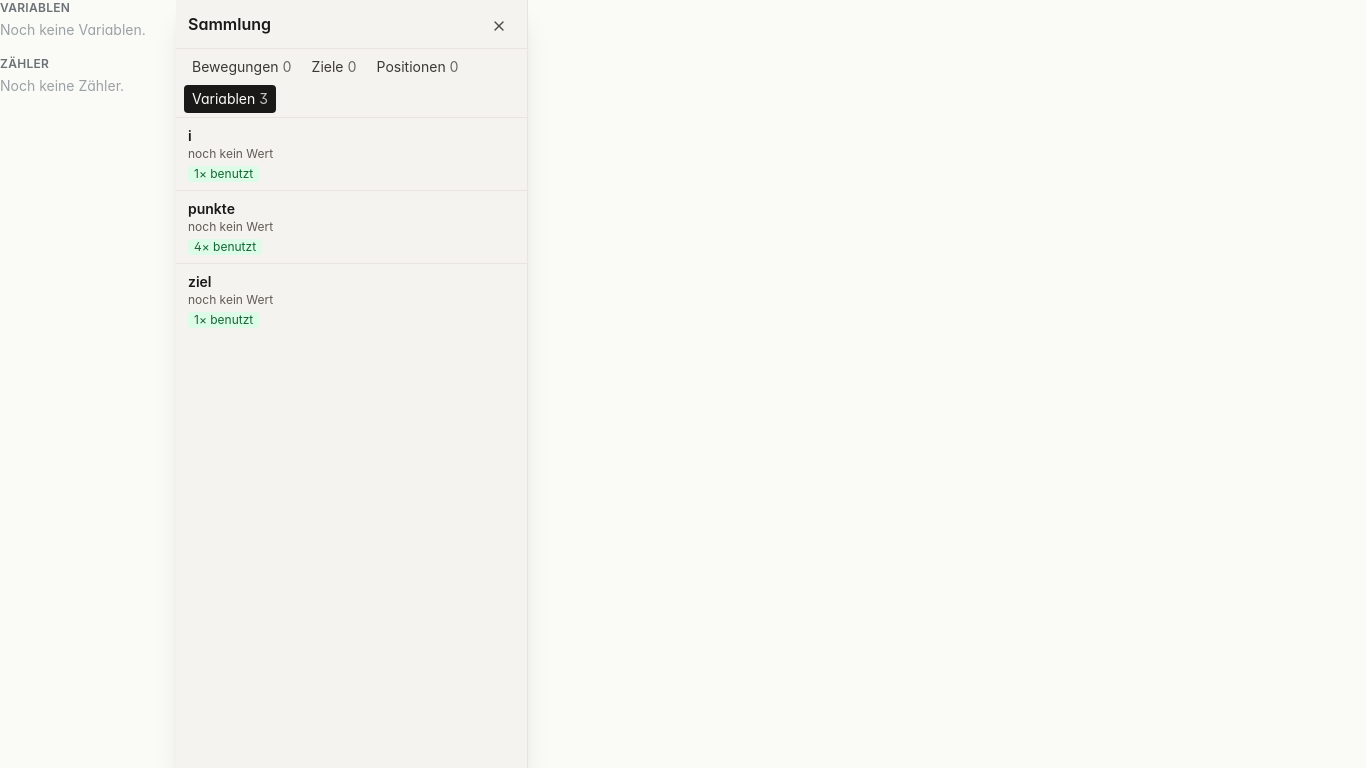
Test case: a Python program’s zeige(…) reaches both Variablen views › before any run the drawer lists the program’s own names, no value yet
Expected: the tab "Variablen 3" is shown, [184,85,276,113]
Click the button "punkte noch kein Wert 4× benutzt": click(211, 208) [176,191,527,263]
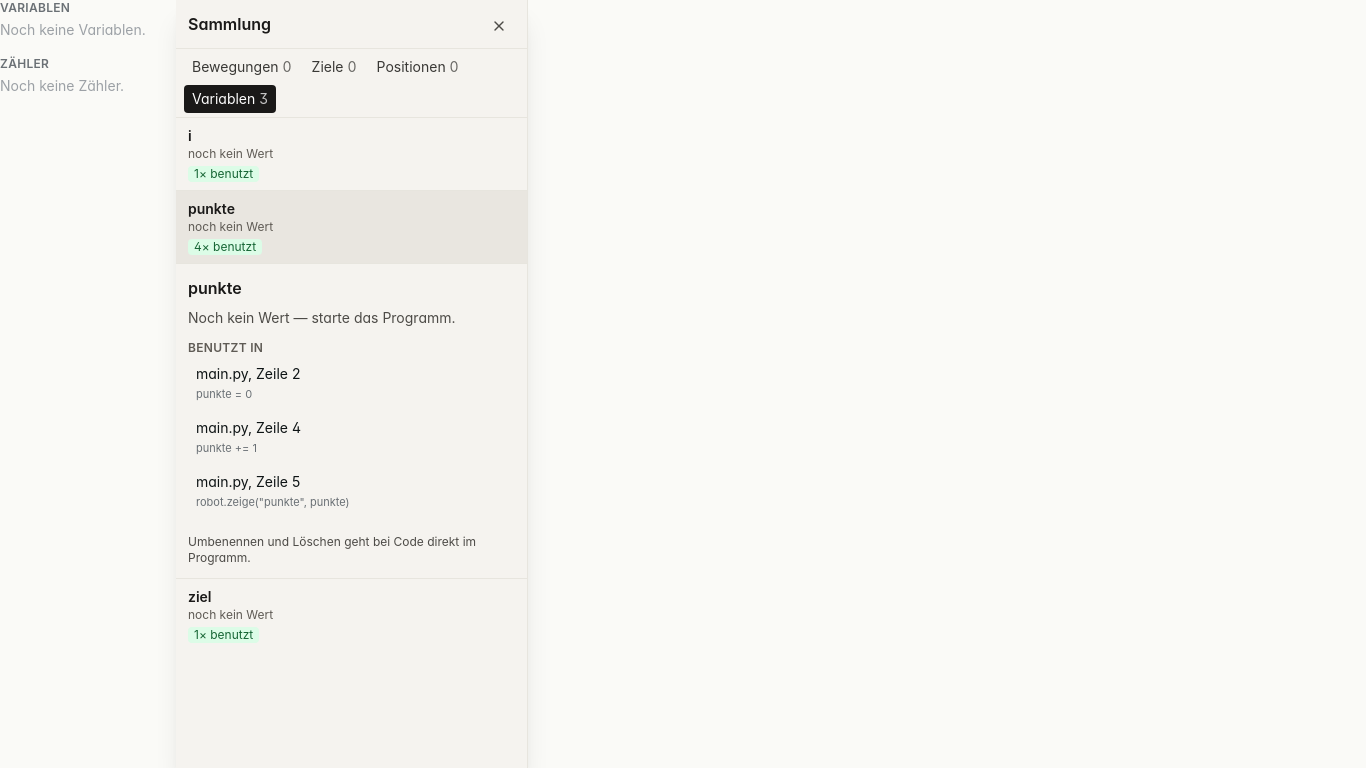
Now the text "Noch kein Wert — starte das Programm." is shown, box [188,309,456,326]
